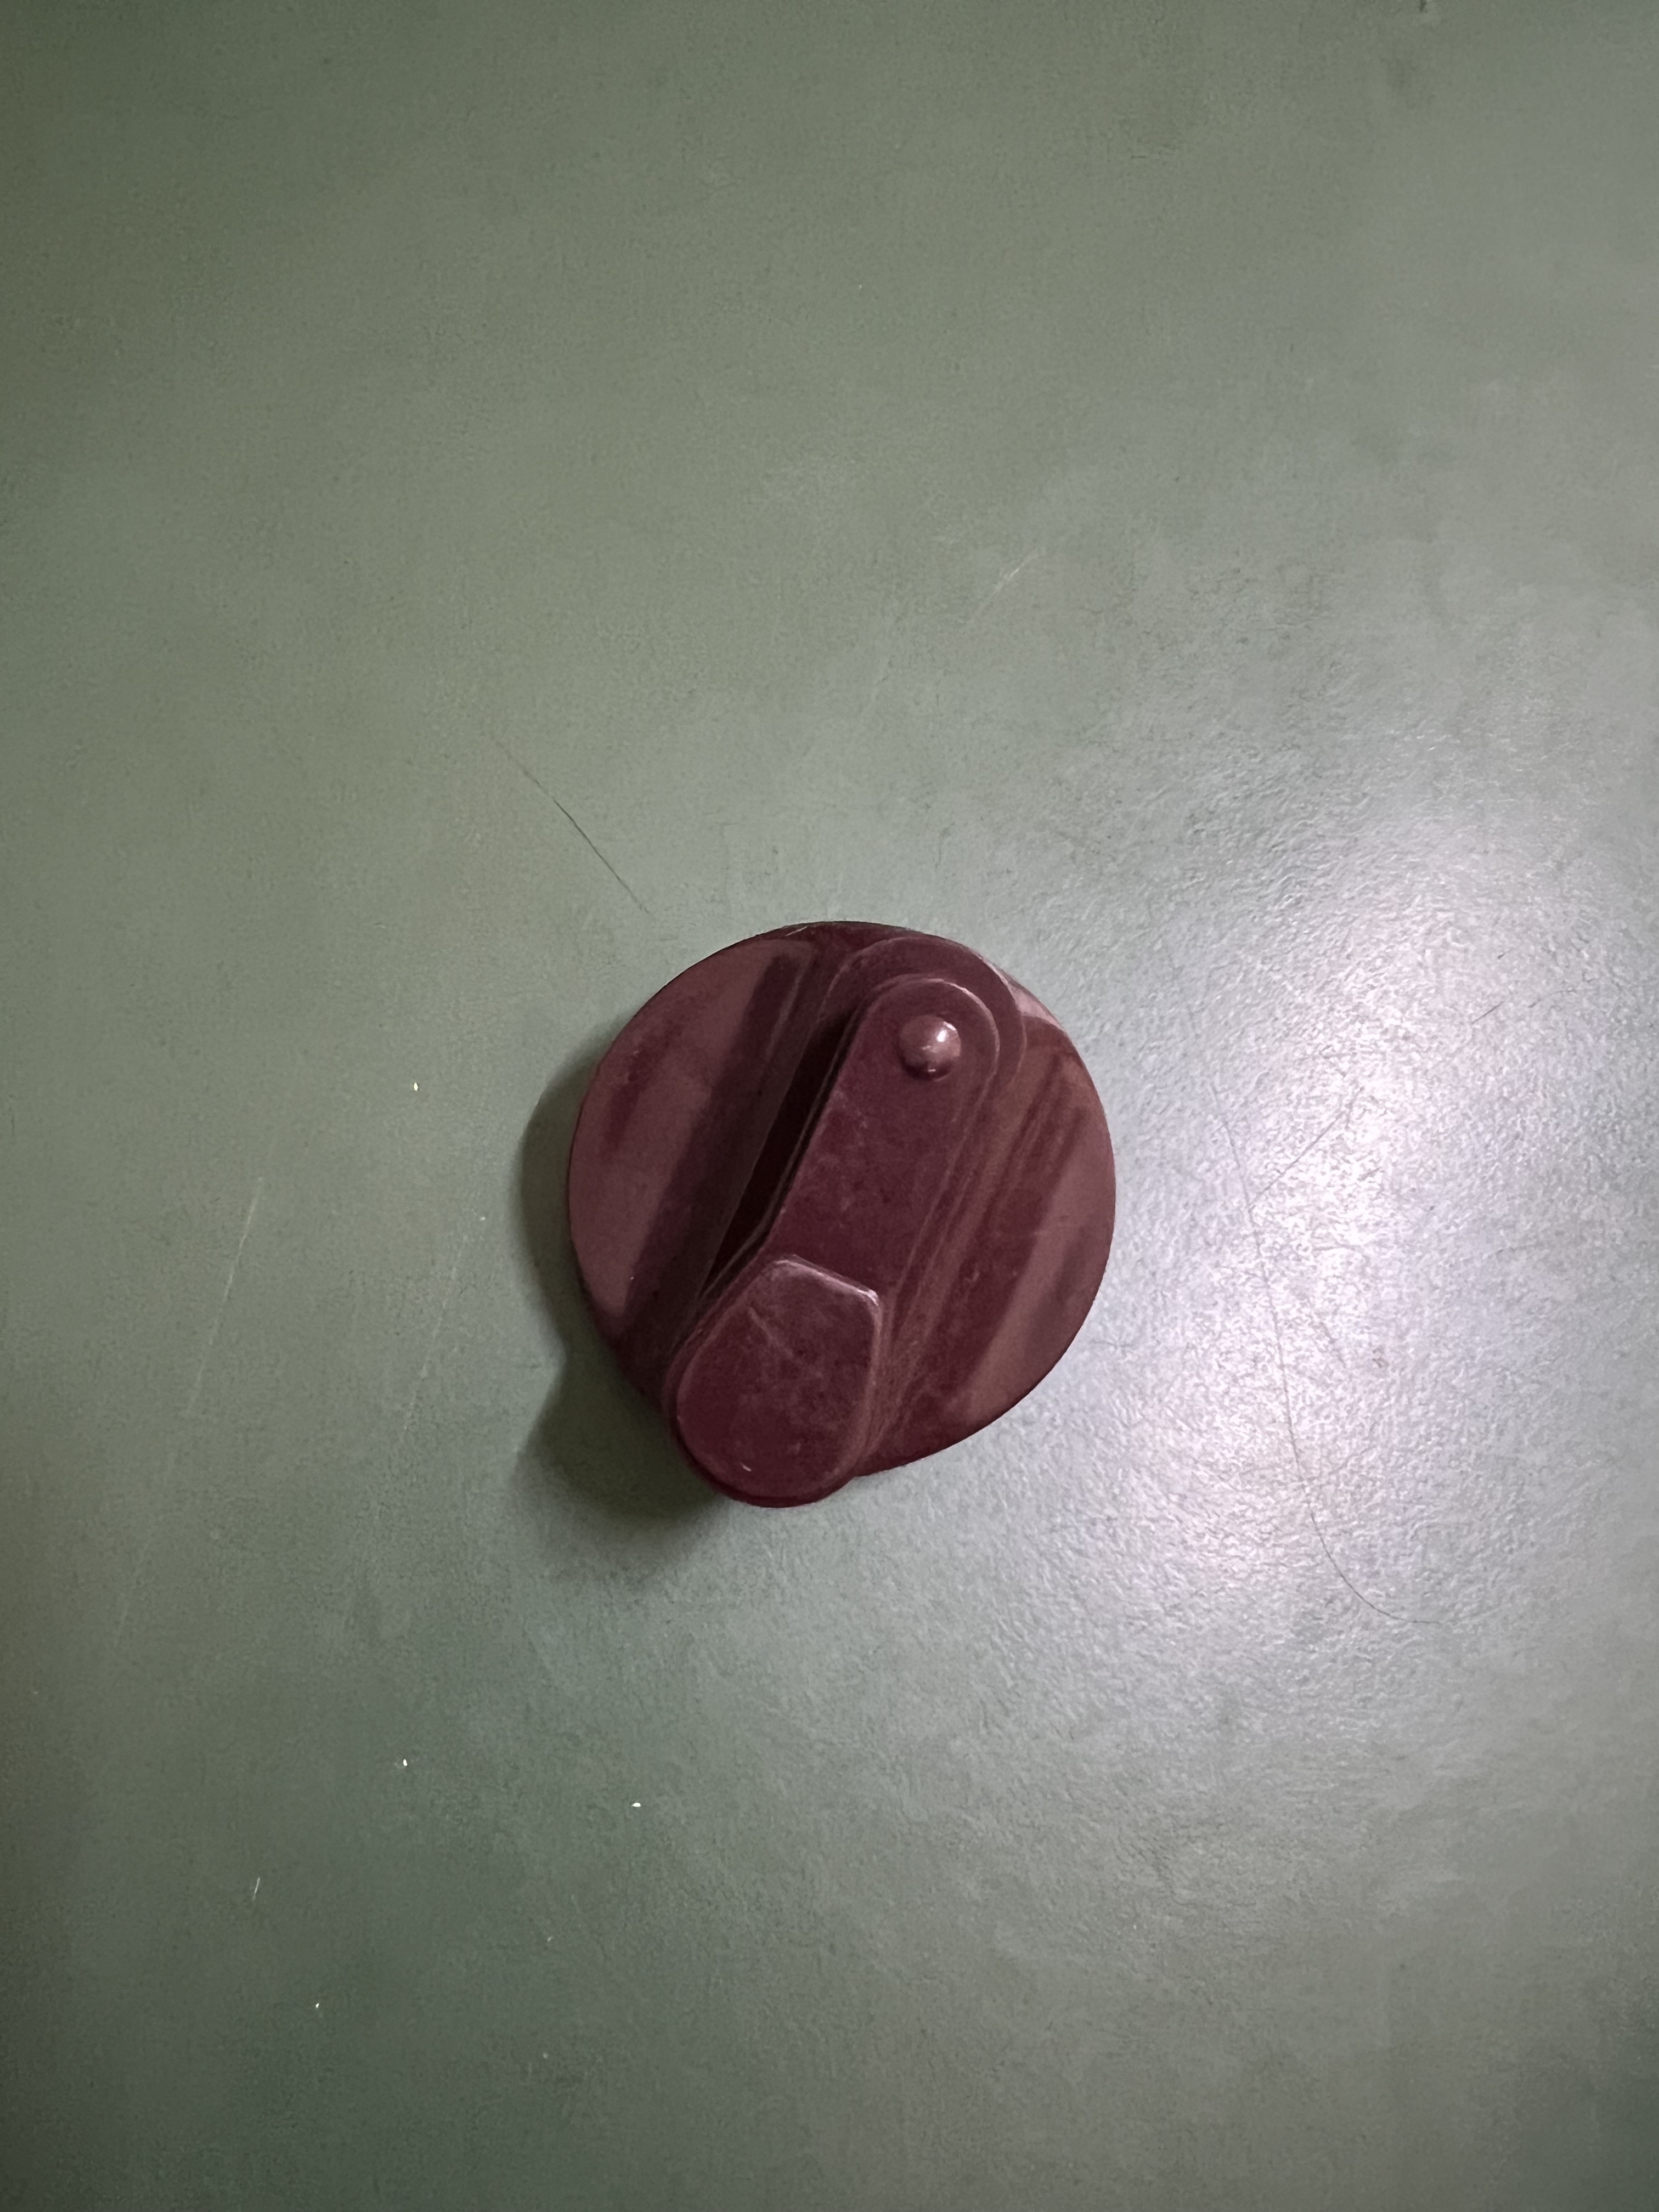regulator: (540, 883, 1129, 1514)
